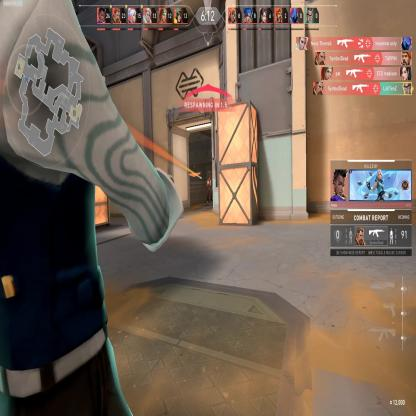enemy: (206, 176, 212, 203)
